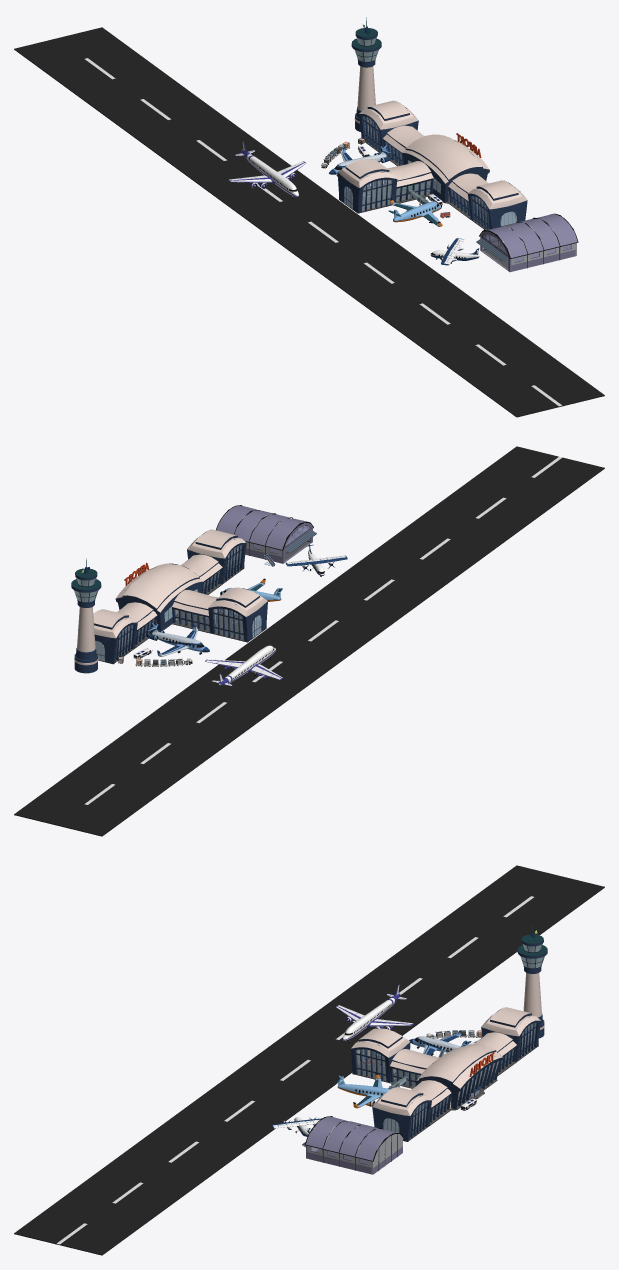
The model's file is airport.glb.
3 renders of one model, top to bottom at view 1: azimuth 30°, elevation 25°; view 2: azimuth 150°, elevation 25°; view 3: azimuth 330°, elevation 25°, orthographic.
Visible parts, largest first — view 1: LandingTrack1Straight, 04.Hangar, 07.Modulo2.002, 07.Modulo2, 07.Modulo1, 07.Modulo2.001, 02.ControlTower, 18.2.Airplane, 18.1.Airplane, 18.4.Airplane; view 2: LandingTrack1Straight, 07.Modulo2.002, 04.Hangar, 07.Modulo1, 07.Modulo2.001, 07.Modulo2, 02.ControlTower, 18.2.Airplane, 18.3.Airplane, 18.4.Airplane; view 3: LandingTrack1Straight, 04.Hangar, 07.Modulo2.002, 07.Modulo2, 07.Modulo1, 07.Modulo2.001, 02.ControlTower, 18.2.Airplane, 18.1.Airplane, 18.3.Airplane.
Boxes of the visible parts, x1,y1,x2,y2 form: LandingTrack1Straight: (14, 27, 604, 417); 04.Hangar: (476, 213, 578, 272); 07.Modulo2.002: (337, 159, 433, 213); 07.Modulo2: (448, 173, 527, 229); 07.Modulo1: (402, 133, 489, 203); 07.Modulo2.001: (359, 100, 423, 166); 02.ControlTower: (351, 17, 381, 131); 18.2.Airplane: (228, 140, 305, 198); 18.1.Airplane: (388, 199, 442, 226); 18.4.Airplane: (430, 238, 479, 265); LandingTrack1Straight: (14, 446, 604, 836); 07.Modulo2.002: (172, 587, 267, 642); 04.Hangar: (216, 505, 316, 563); 07.Modulo1: (115, 562, 202, 630); 07.Modulo2.001: (78, 602, 157, 664); 07.Modulo2: (181, 529, 246, 594); 02.ControlTower: (71, 558, 101, 673); 18.2.Airplane: (205, 645, 282, 685); 18.3.Airplane: (146, 623, 209, 656); 18.4.Airplane: (285, 544, 347, 576); LandingTrack1Straight: (14, 865, 604, 1255); 04.Hangar: (302, 1116, 404, 1174); 07.Modulo2.002: (351, 1028, 439, 1088); 07.Modulo2: (372, 1080, 451, 1141); 07.Modulo1: (416, 1044, 503, 1110); 07.Modulo2.001: (473, 1007, 540, 1076); 02.ControlTower: (517, 924, 547, 1038); 18.2.Airplane: (336, 984, 413, 1042); 18.1.Airplane: (336, 1073, 390, 1108); 18.3.Airplane: (409, 1030, 471, 1055).
Bounding box in the file's own units: 198 × 101 × 808.
1 material, 1 textured.
